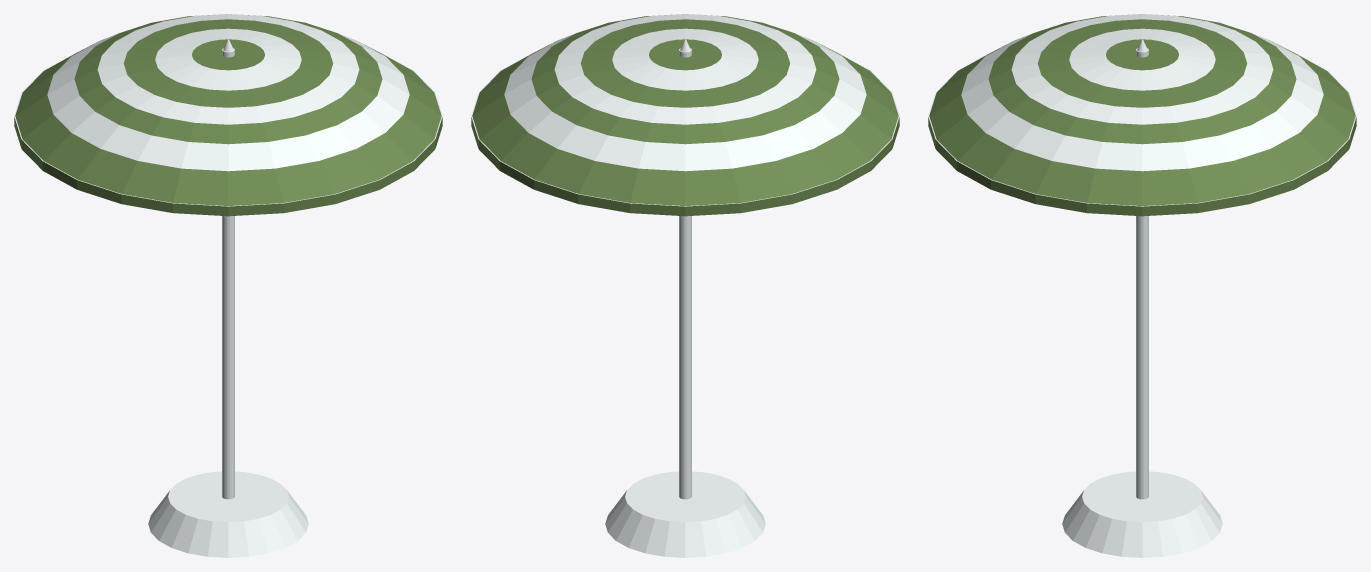
The model's file is parasol_str.obj.
3 renders of one model, left to right at view 1: azimuth 30°, elevation 25°; view 2: azimuth 150°, elevation 25°; view 3: azimuth 270°, elevation 25°, orthographic.
Parts seen in each view (by area): view 1: 12_12, 10_10, 7_7, 2_2, 3_3, 4_4, 9_9, 1_1, 6_6, 8_8, 11_11; view 2: 12_12, 10_10, 7_7, 2_2, 3_3, 4_4, 9_9, 1_1, 6_6, 8_8, 11_11; view 3: 12_12, 10_10, 7_7, 2_2, 3_3, 4_4, 9_9, 1_1, 6_6, 8_8, 11_11.
Boxes of the visible parts, box(x1,y1,x2,y2) form: 12_12: box(15, 43, 441, 205); 10_10: box(47, 33, 409, 171); 7_7: box(148, 471, 308, 557); 2_2: box(74, 14, 382, 144); 3_3: box(97, 14, 359, 124); 4_4: box(123, 19, 333, 107); 9_9: box(155, 28, 301, 90); 1_1: box(14, 117, 442, 216); 6_6: box(222, 48, 234, 499); 8_8: box(192, 39, 264, 70); 11_11: box(14, 51, 442, 206); 12_12: box(472, 43, 898, 205); 10_10: box(504, 33, 866, 171); 7_7: box(605, 471, 765, 557); 2_2: box(531, 14, 839, 144); 3_3: box(554, 14, 816, 124); 4_4: box(580, 19, 790, 107); 9_9: box(612, 28, 758, 90); 1_1: box(471, 117, 899, 216); 6_6: box(679, 48, 691, 499); 8_8: box(649, 39, 721, 70); 11_11: box(471, 51, 899, 206); 12_12: box(929, 43, 1355, 205); 10_10: box(961, 33, 1323, 171); 7_7: box(1062, 471, 1222, 557); 2_2: box(988, 14, 1296, 144); 3_3: box(1011, 14, 1273, 124); 4_4: box(1037, 19, 1247, 107); 9_9: box(1069, 28, 1215, 90); 1_1: box(928, 117, 1356, 216); 6_6: box(1136, 48, 1148, 499); 8_8: box(1106, 39, 1178, 70); 11_11: box(928, 51, 1356, 206).
Size of the model in its own units: 200 by 249 by 200.
